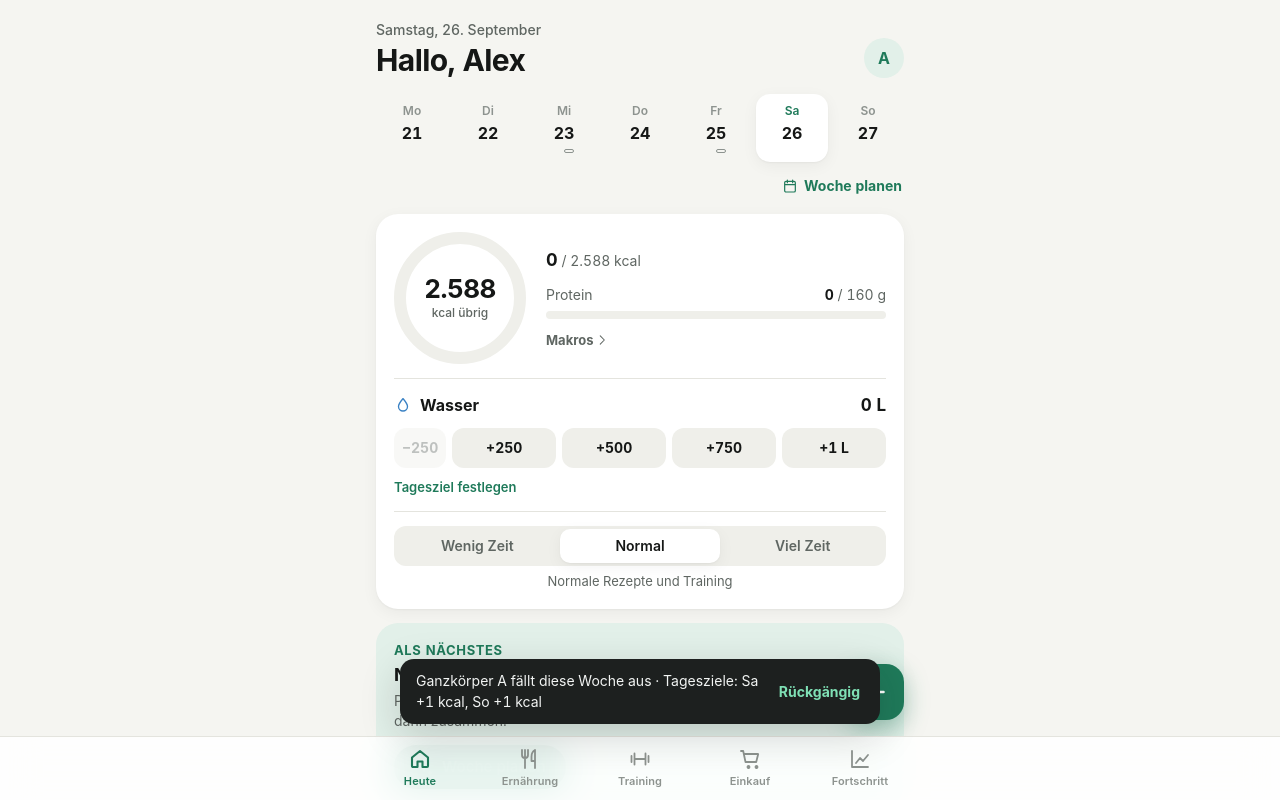
Test case: undo safety › an outdated "Rückgängig" does not drop later changes
The width and height of the screenshot is (1280, 800).
Click the button "Rückgängig" at [819, 692], box x1=771 y1=676 x2=868 y2=708
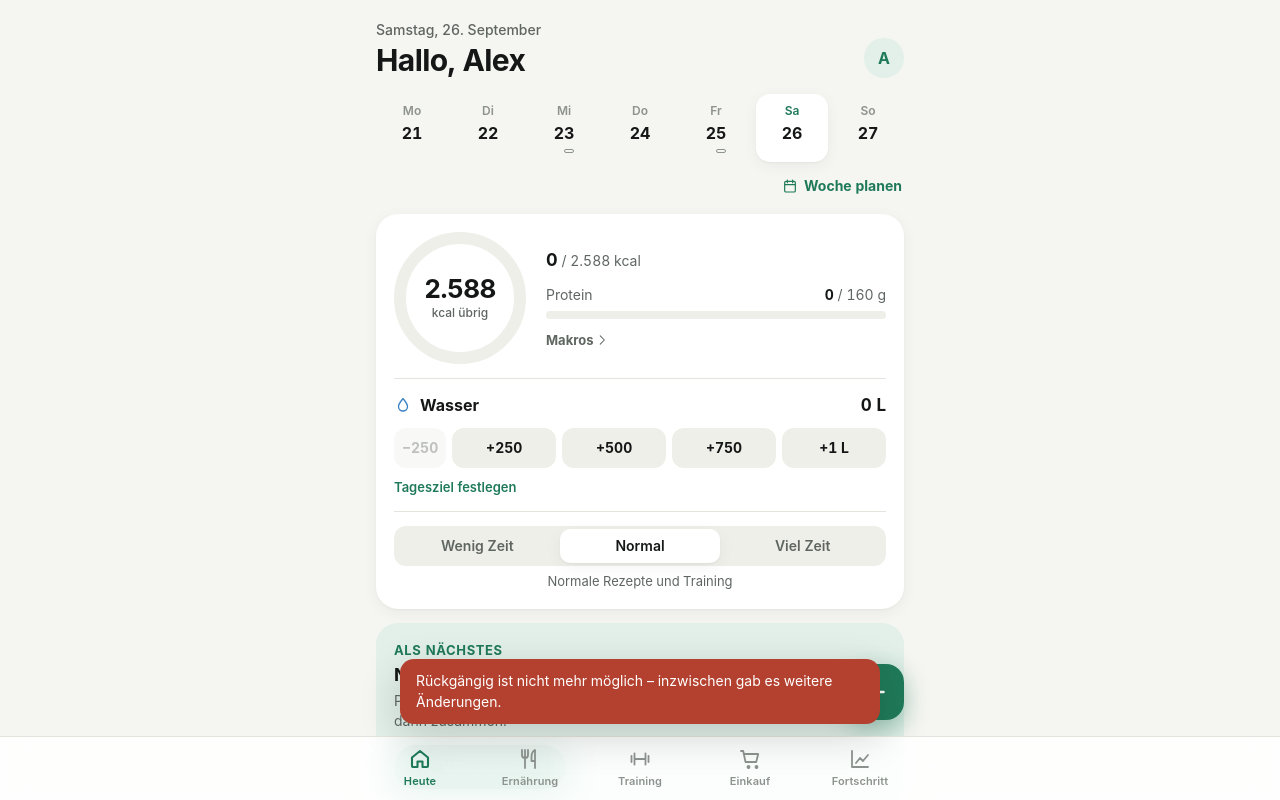
Result: the text "Rückgängig ist nicht mehr möglich" is shown at x1=416 y1=672 x2=832 y2=710
